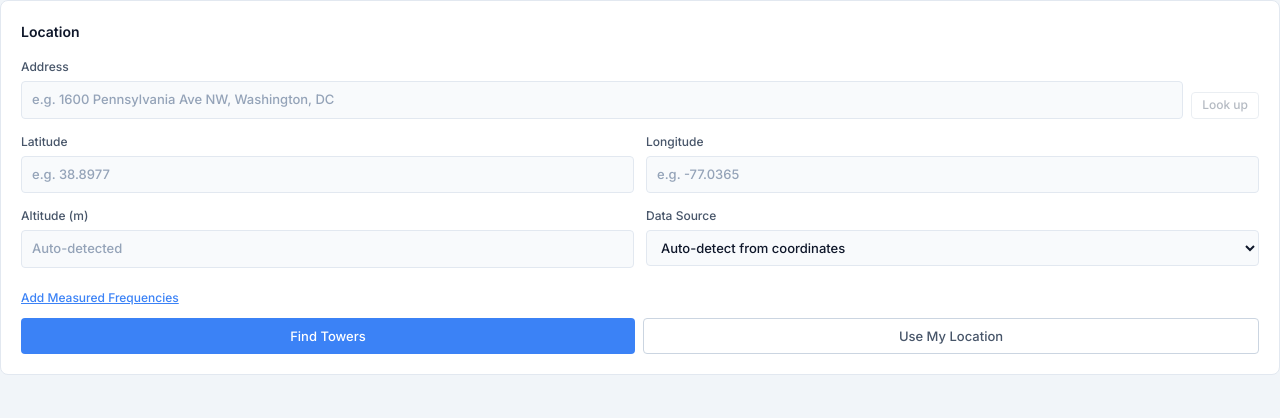
Test: SearchForm address lookup › passes on the outage message when the geocoder is down
The width and height of the screenshot is (1280, 418).
Type "1600 Pennsylvania Ave NW, Washington, DC" into the field labelled "Address".
click(602, 100); type("1600 Pennsylvania Ave NW, Washington, DC")  # box left=21, top=81, right=1183, bottom=118
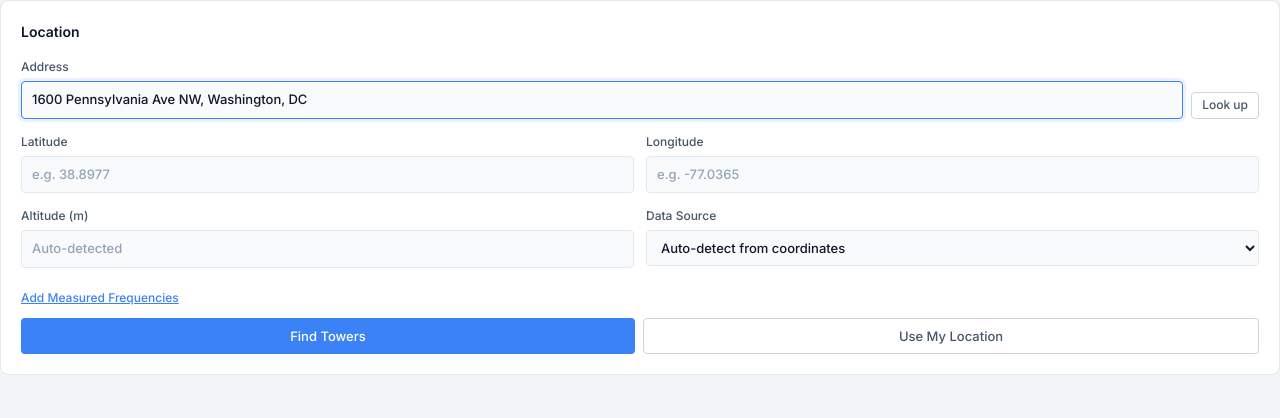
Click the button "Look up".
click(1225, 105)  # box left=1191, top=92, right=1259, bottom=118
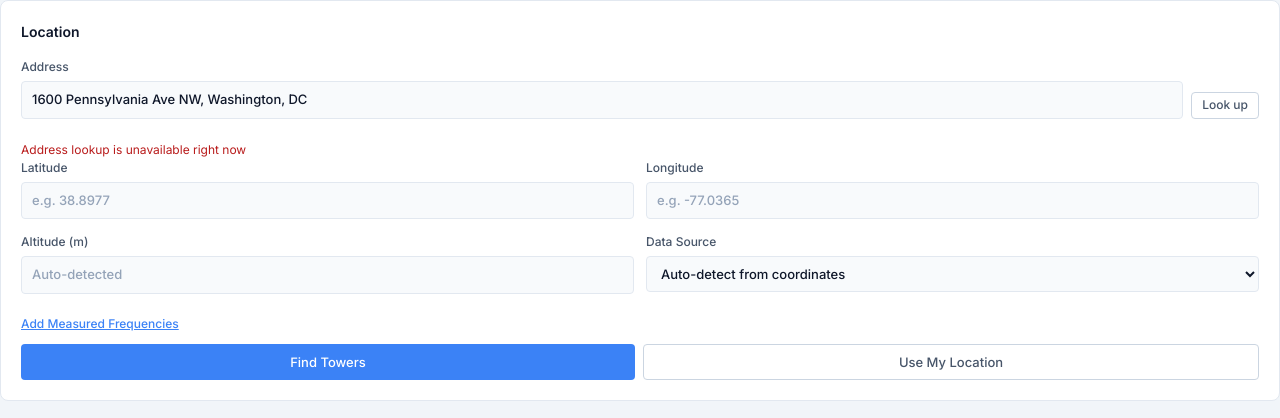
Expected: the text "Address lookup is unavailable right now" is shown, left=21, top=142, right=246, bottom=156
